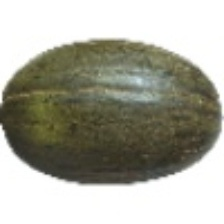honeydew: (47, 21, 182, 206)
